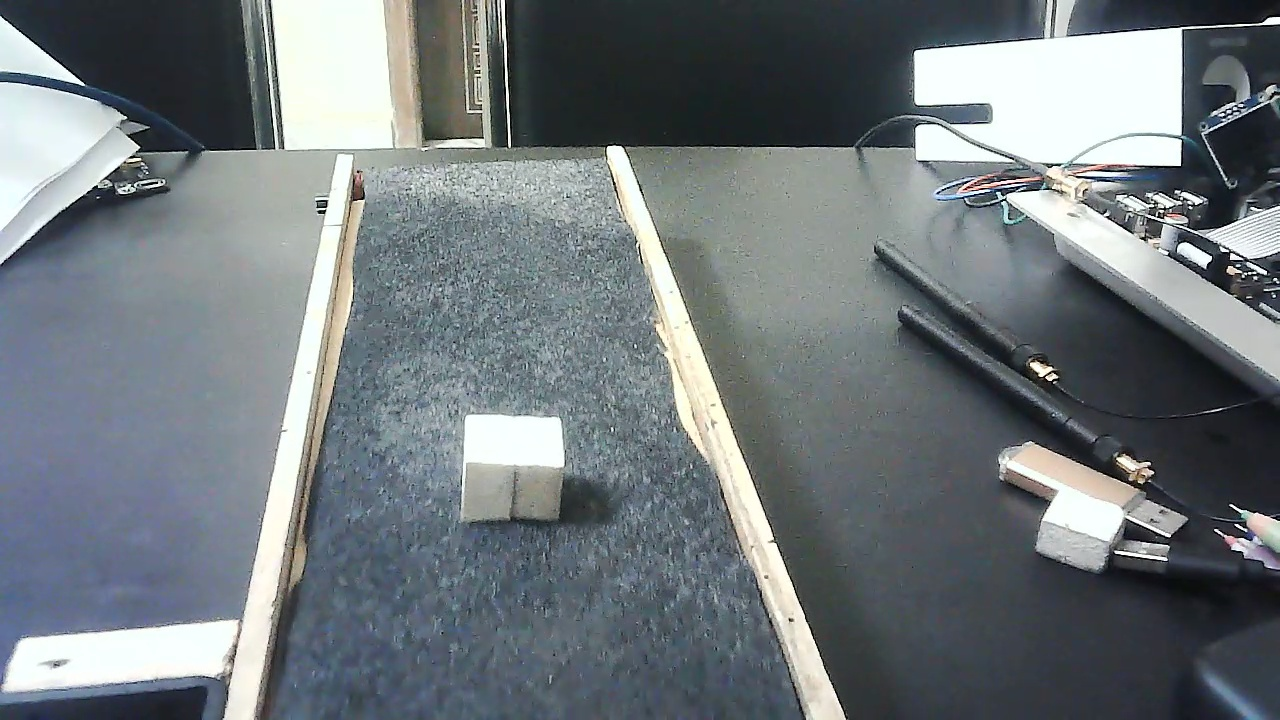Small: (458, 413, 569, 524)
